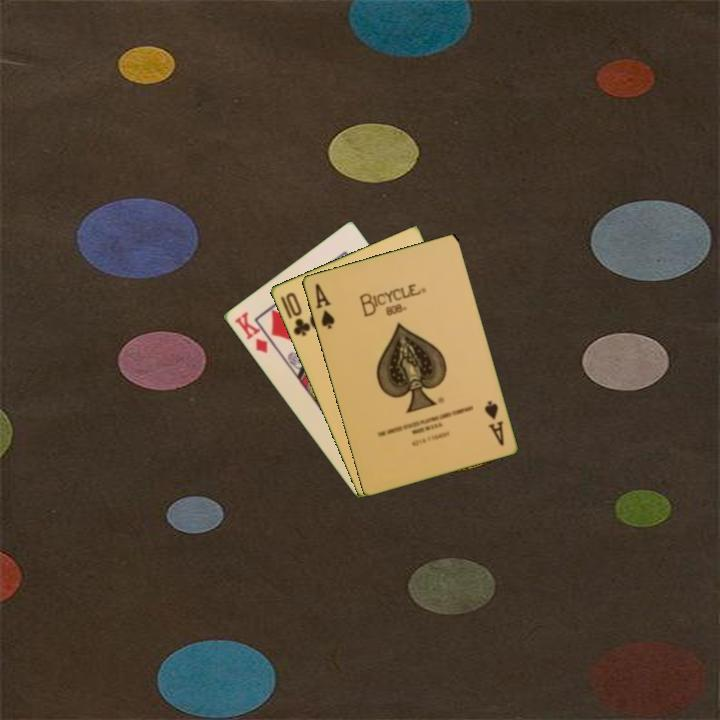10c: (282, 289, 313, 339)
As: (480, 397, 507, 449), (311, 280, 337, 332)
Kd: (230, 308, 270, 356)
